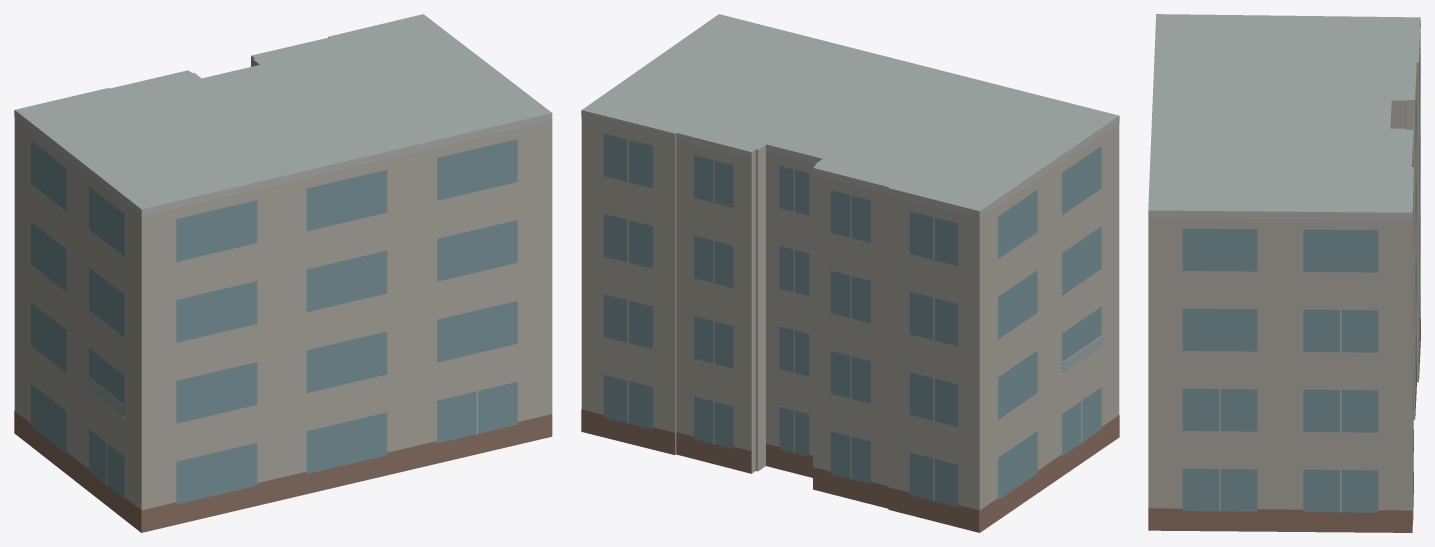
The model's file is survey-upis-32839514.glb.
The picture shows the model from 3 angles, left to right: view 1: azimuth 30°, elevation 25°; view 2: azimuth 150°, elevation 25°; view 3: azimuth 270°, elevation 25°; orthographic projection.
Visible parts, largest first — view 1: survey-upis-32839514.tmp; view 2: survey-upis-32839514.tmp; view 3: survey-upis-32839514.tmp.
Boxes of the visible parts, left/top/right/bottom form: survey-upis-32839514.tmp: left=14, top=14, right=552, bottom=532; survey-upis-32839514.tmp: left=581, top=14, right=1119, bottom=532; survey-upis-32839514.tmp: left=1148, top=14, right=1420, bottom=532.
Size of the model in its own units: 14.53 by 10.9 by 8.42.
